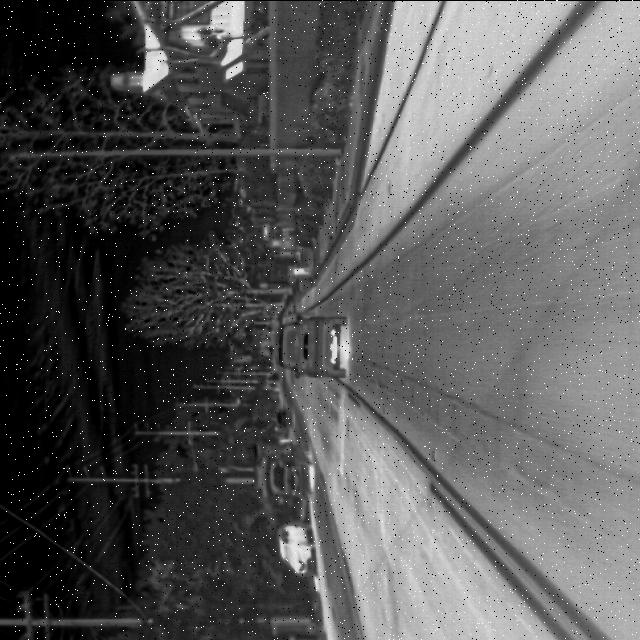Vehicle: (270, 312, 350, 380), (256, 444, 314, 502), (274, 520, 318, 578)
